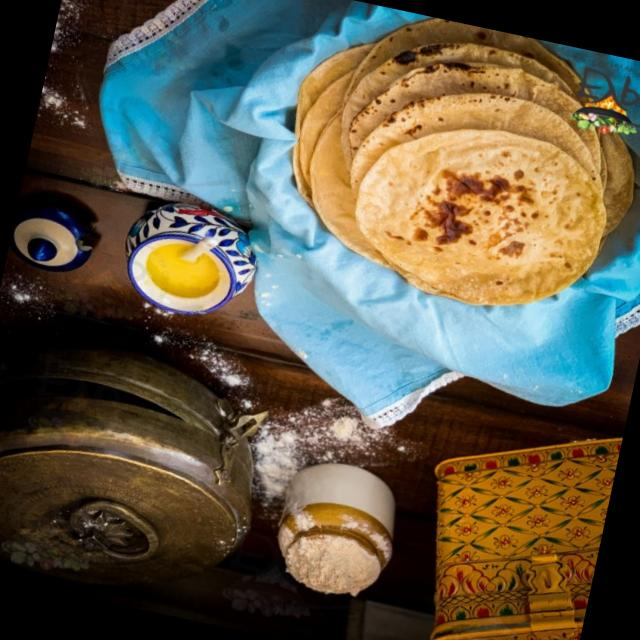roti: (289, 19, 636, 307)
